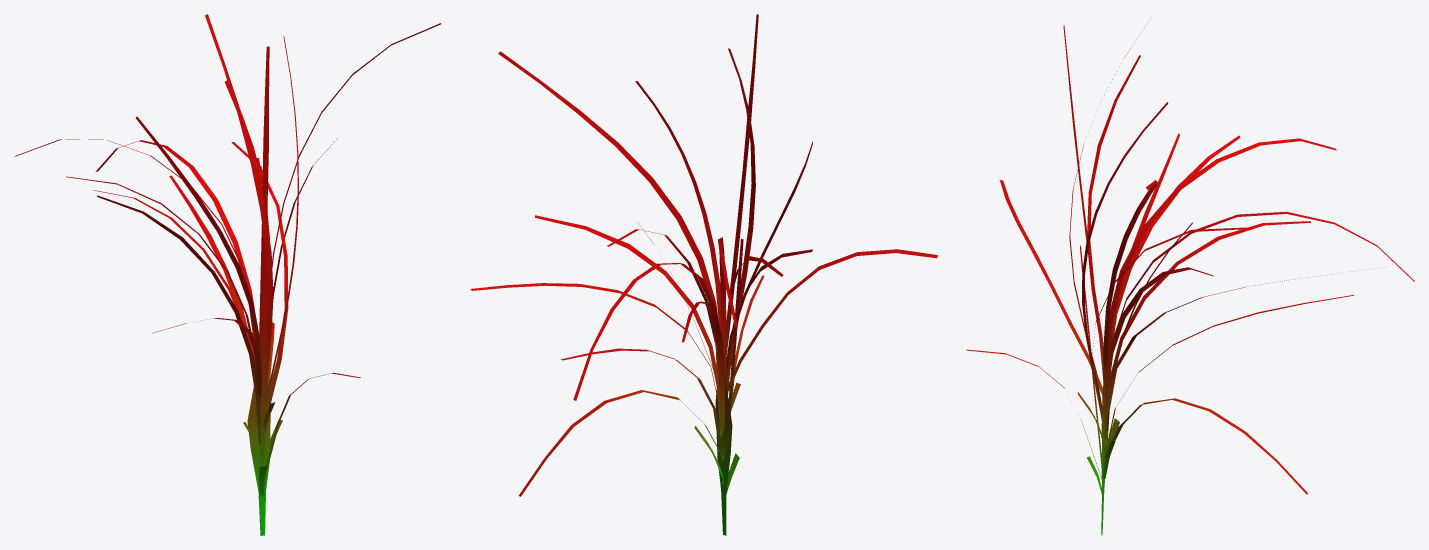
Rendered from Sea Wheatgrass_LOD1_Var3_ui2oagjia.fbx.
3 renders of one model, left to right at view 1: azimuth 30°, elevation 25°; view 2: azimuth 150°, elevation 25°; view 3: azimuth 270°, elevation 25°, orthographic.
Parts seen in each view (by area): view 1: _763h_Var3_LOD1; view 2: _763h_Var3_LOD1; view 3: _763h_Var3_LOD1.
Boxes of the visible parts, x1,y1,x2,y2 form: _763h_Var3_LOD1: (15, 14, 441, 535); _763h_Var3_LOD1: (470, 14, 937, 535); _763h_Var3_LOD1: (966, 25, 1414, 535).
Size of the model in its own units: 50.83 by 68.2 by 54.7.
